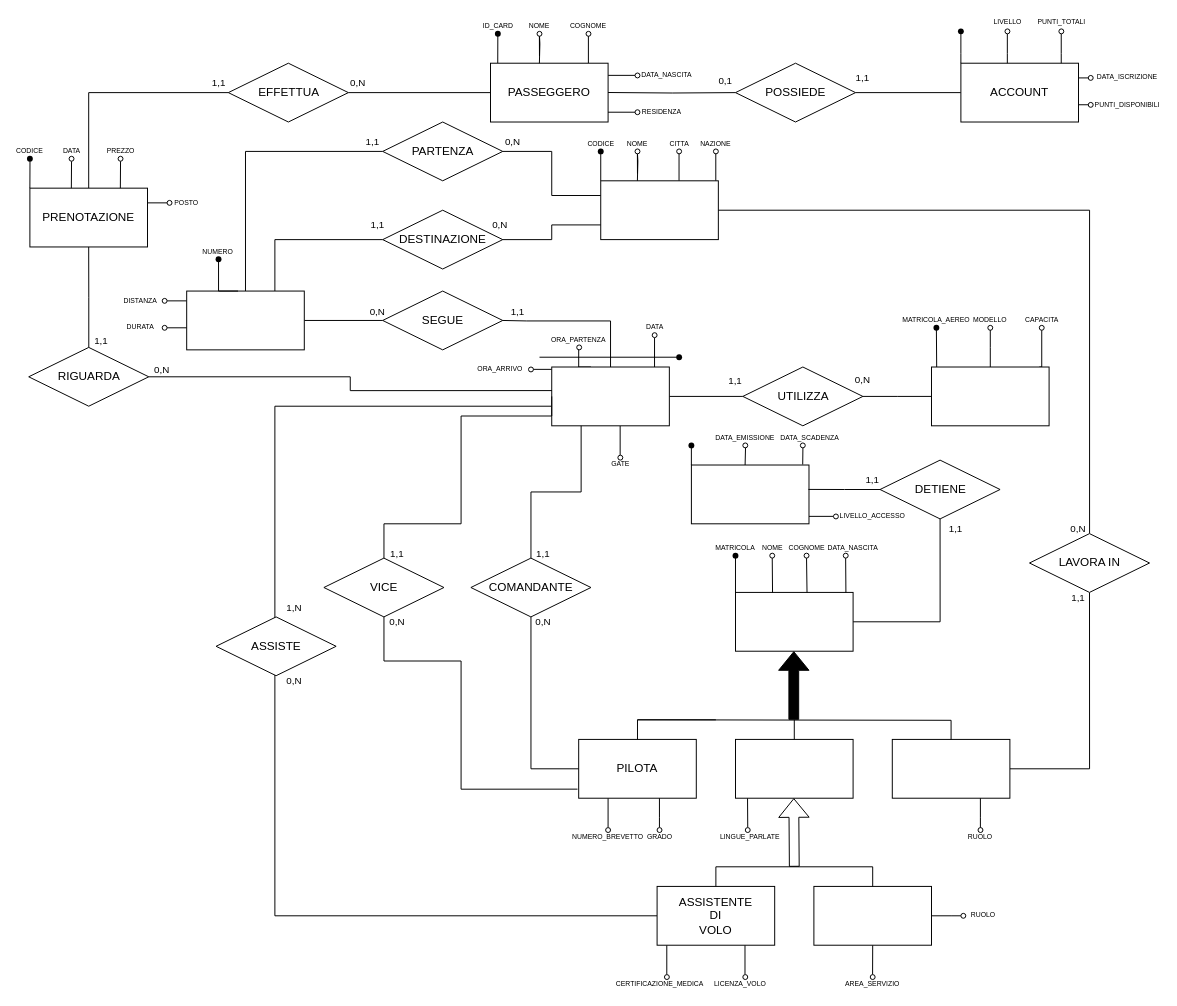
The diagram is 1177 pixels wide and 1006 high, and some of its shapes have lost their labels. Each missing label, with the centre of its shape:
"AEREO" goes at (x=990, y=396).
"AEREOPORTO" goes at (x=659, y=210).
"ASSISTENTE" goes at (x=794, y=768).
"ASSISTENTE DI TERRA" goes at (x=872, y=915).
"BADGE" goes at (x=749, y=494).
"ID_BADGE" goes at (x=691, y=445).
"MAIL" goes at (x=960, y=31).
"PERSONALE" goes at (x=794, y=621).
"PERSONALE DI TERRA" goes at (x=950, y=768).
"TRATTA" goes at (x=245, y=320).
"VOLO" goes at (x=610, y=396).
